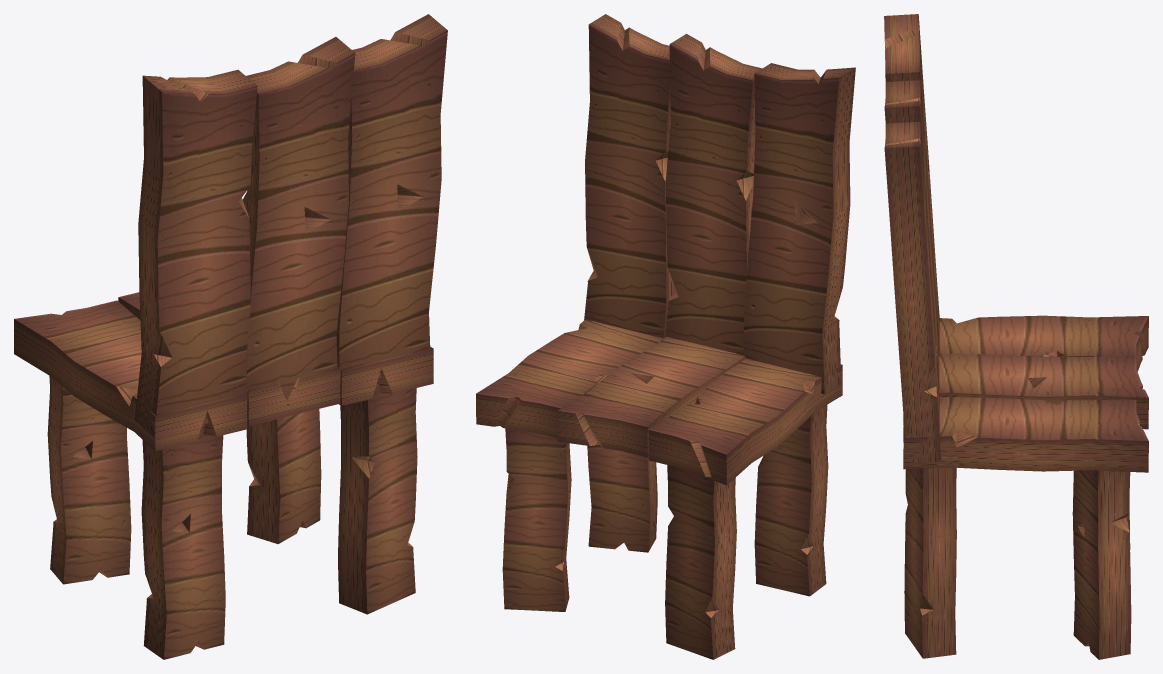
Rendered from CHAIR.FBX.
3 renders of one model, left to right at view 1: azimuth 30°, elevation 25°; view 2: azimuth 150°, elevation 25°; view 3: azimuth 270°, elevation 25°, orthographic. The views are drawn at different scales.
Visible parts, largest first — view 1: Box011; view 2: Box011; view 3: Box011.
Part boxes in pixels (x1=…): Box011: x1=14, y1=14, x2=447, y2=659; Box011: x1=476, y1=14, x2=855, y2=659; Box011: x1=884, y1=14, x2=1148, y2=659.
Size of the model in its own units: 73.58 by 144 by 65.73.
